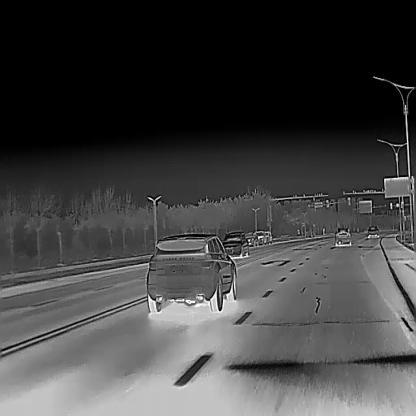car: (146, 232, 237, 311), (221, 229, 249, 258), (333, 226, 351, 245), (253, 229, 266, 245), (244, 232, 258, 246), (367, 224, 379, 238), (263, 230, 272, 244)
